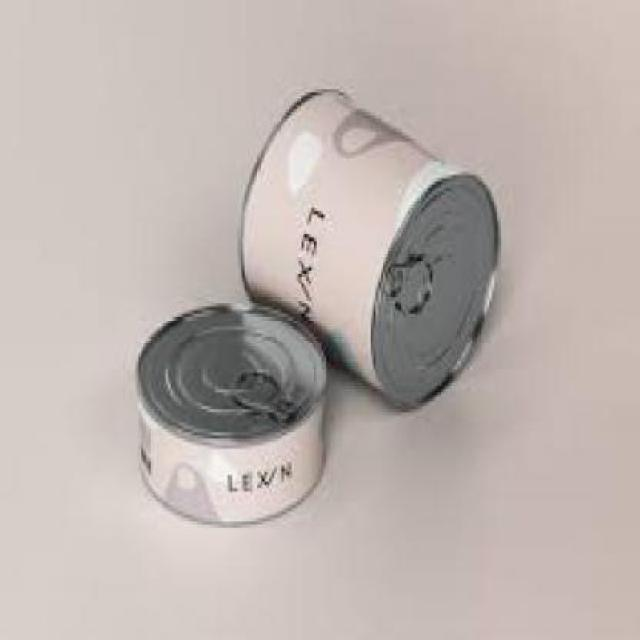METAL: (238, 86, 496, 406), (131, 303, 329, 522)
